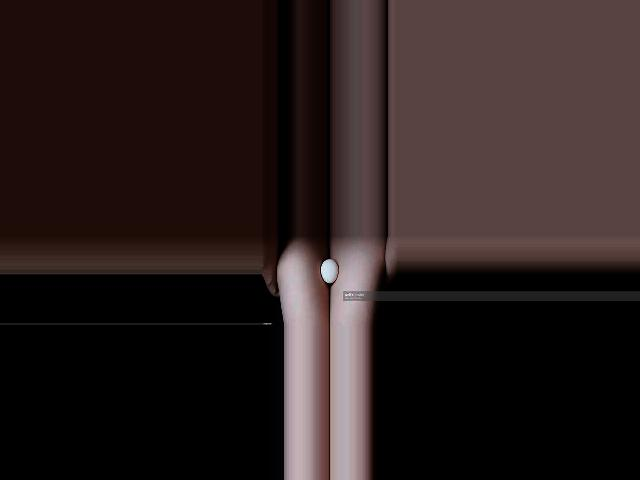egg: (320, 259, 338, 283)
